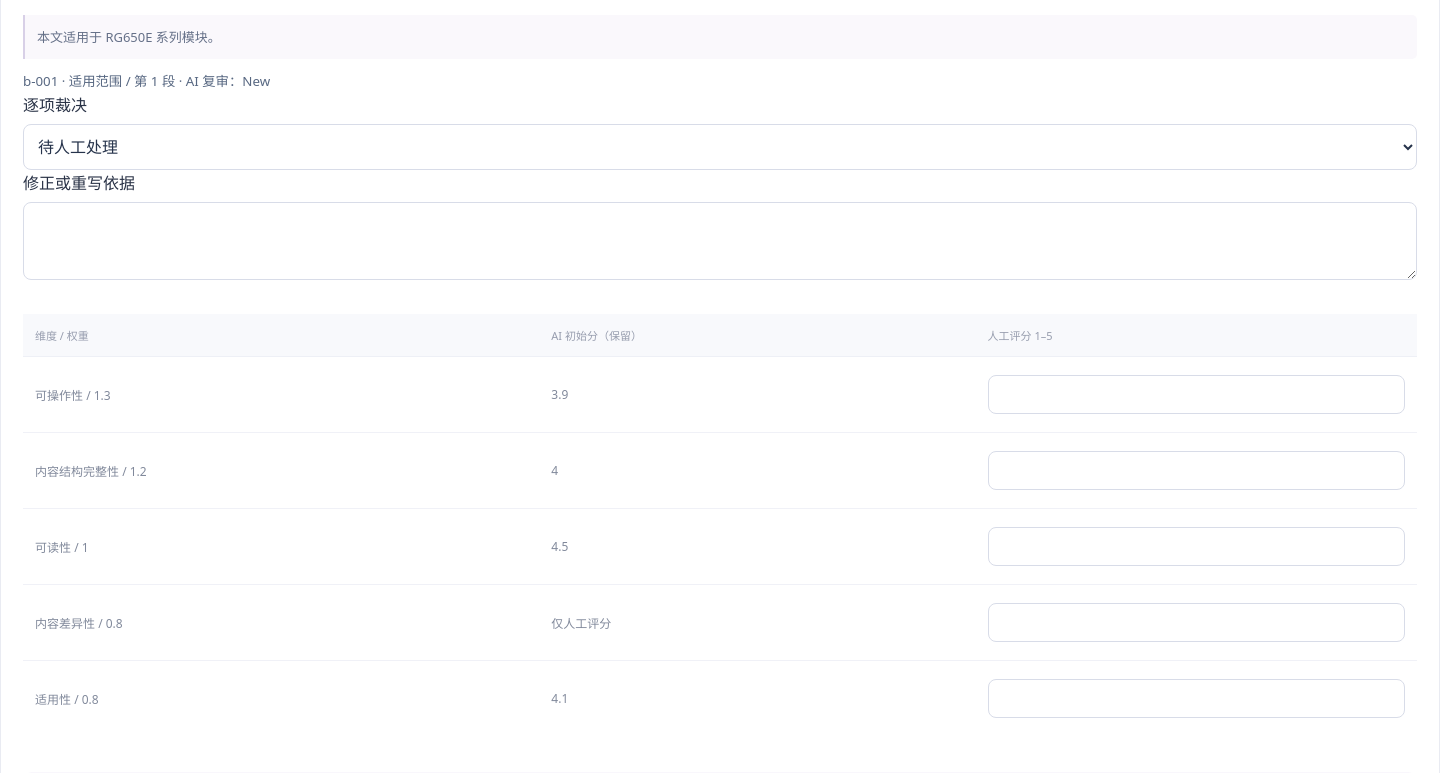
it: operations local-only gates › does not mutate original scores while editing a human draft
The width and height of the screenshot is (1440, 773).
(page scrolled)
Type "3" into the 1st number field at (1196, 395), box [988,375,1405,414]
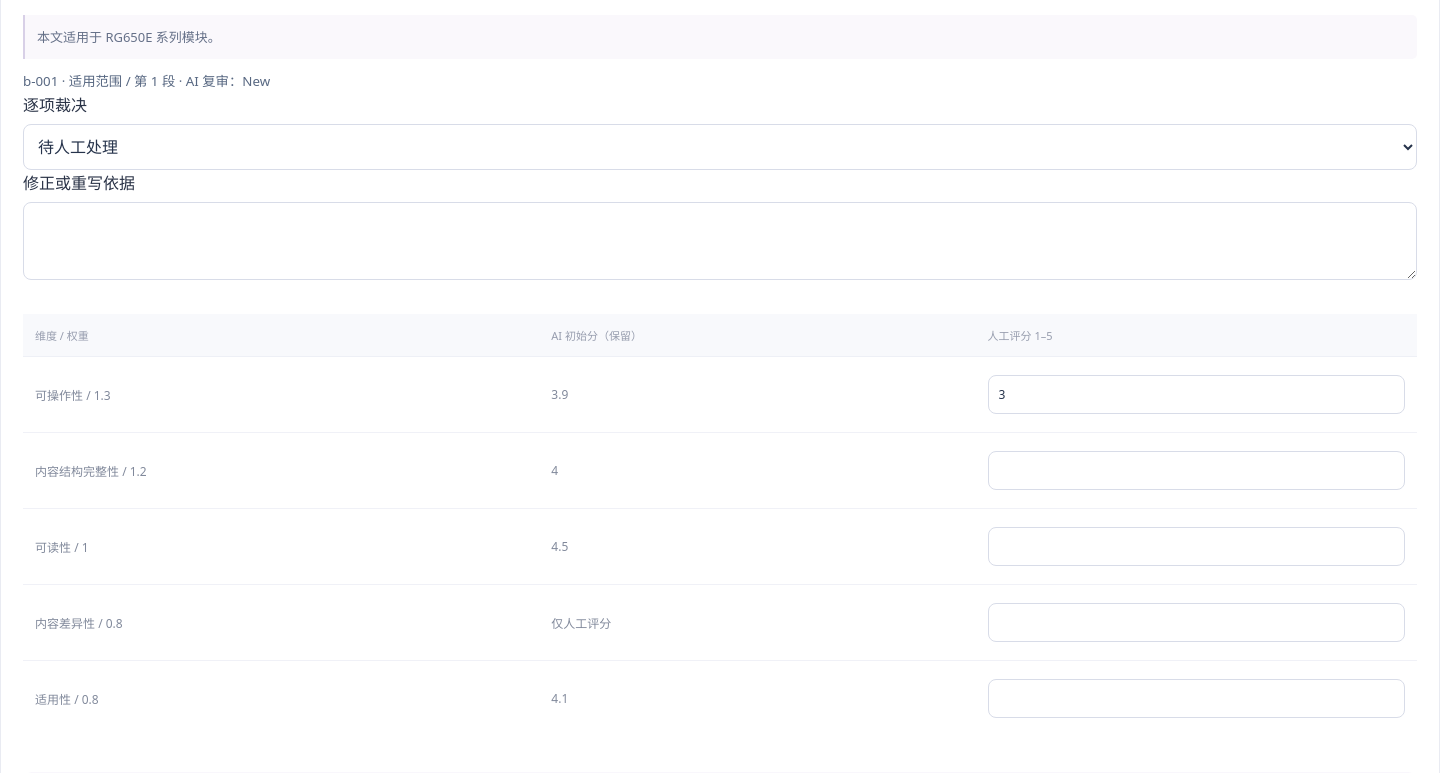
Type "3" into the 2nd number field at (1196, 471), box [988,451,1405,490]
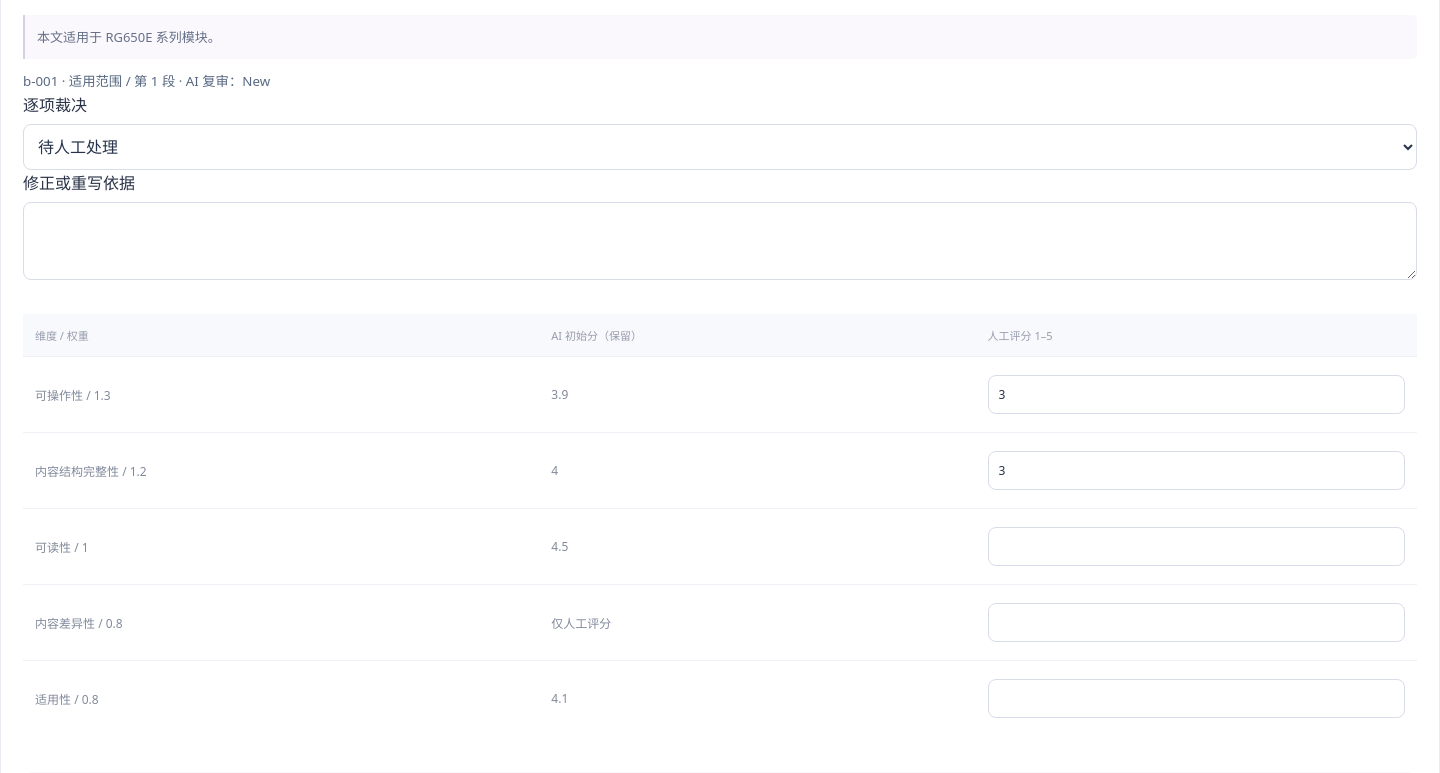
Type "3" into the 3rd number field at (1196, 547), box [988,527,1405,566]
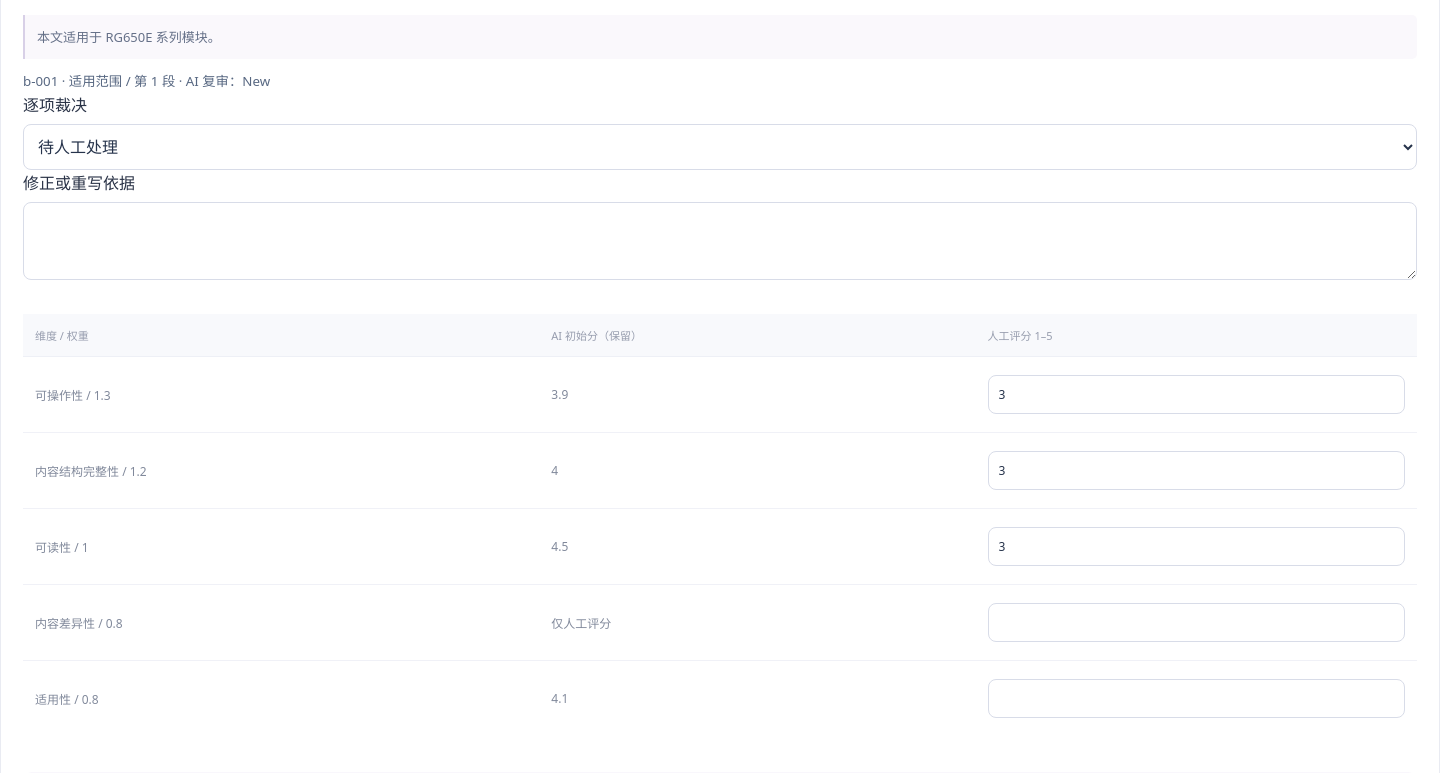
Type "3" into the 4th number field at (1196, 623), box [988,603,1405,642]
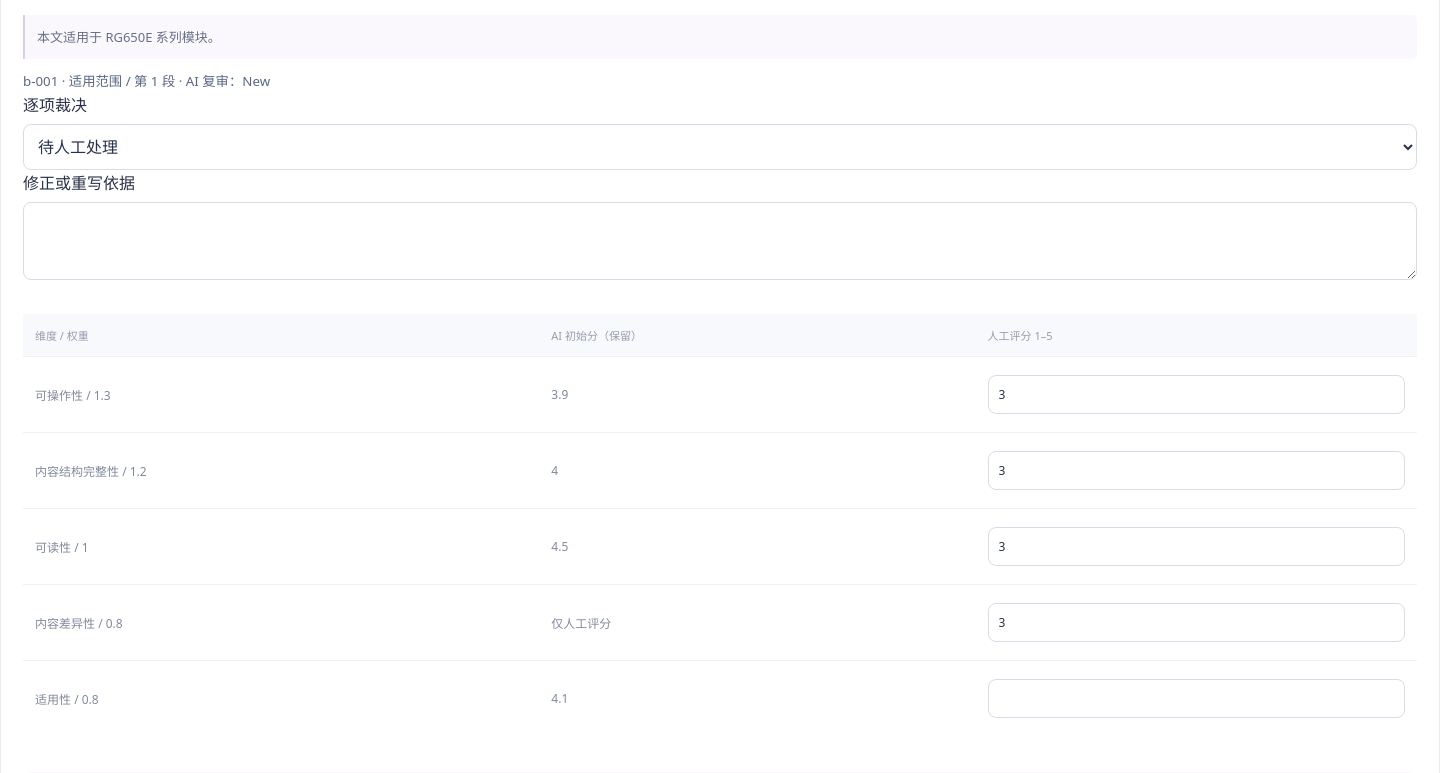
Type "3" into the 5th number field at (1196, 699), box [988,679,1405,718]
(page scrolled)
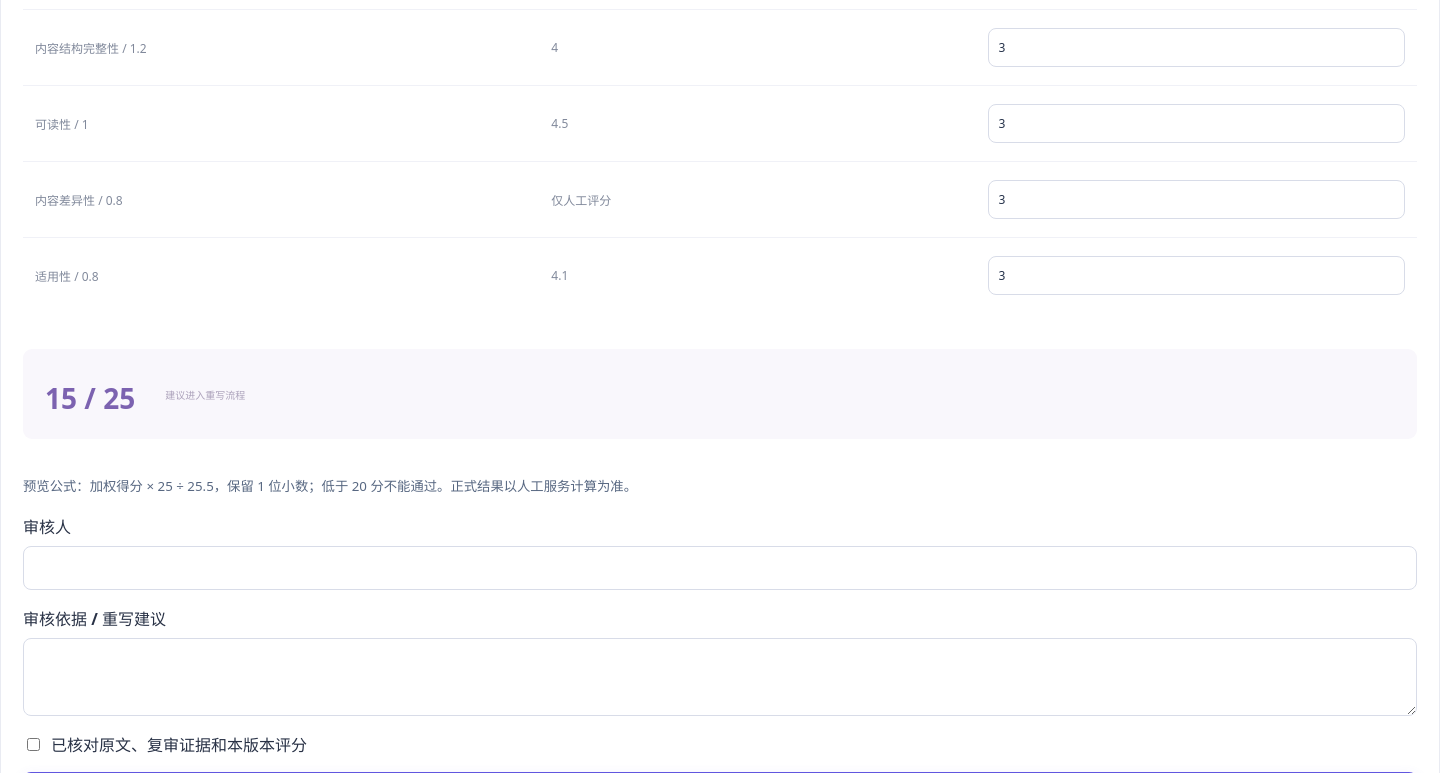
Now the text "15 / 25" is shown, box [45,379,135,417]
Now the text "建议进入重写流程" is shown, box [165,387,245,402]
